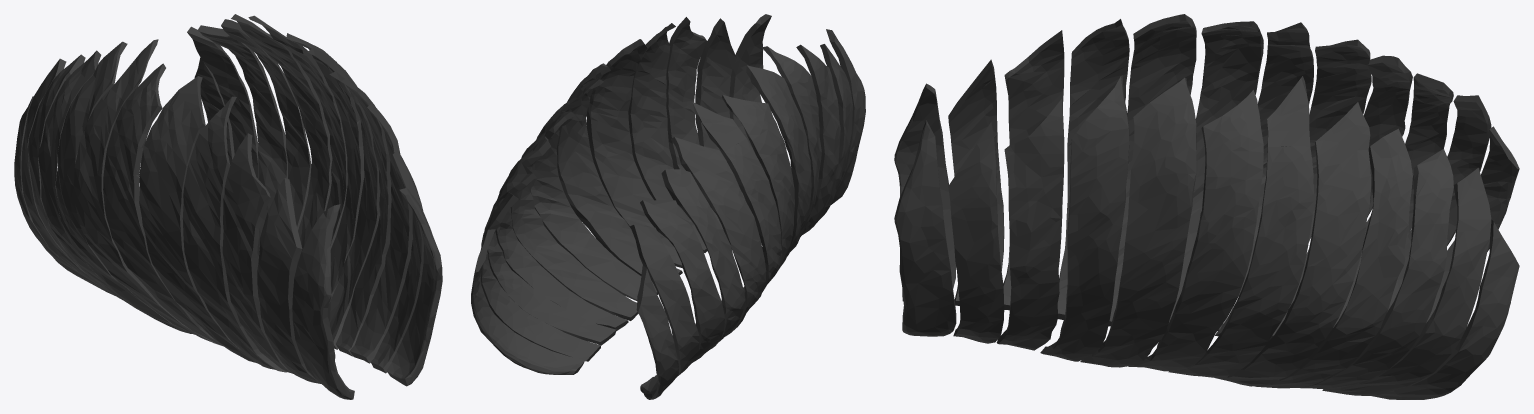
File: m_intercostales_externi.glb
3 views of the same model, side by side, from view 1: azimuth 30°, elevation 25°; view 2: azimuth 150°, elevation 25°; view 3: azimuth 270°, elevation 25° (orthographic). The views are drawn at different scales.
Visible parts, largest first — view 1: m_intercostales_externi; view 2: m_intercostales_externi; view 3: m_intercostales_externi.
Boxes of the visible parts, x1,y1,x2,y2 form: m_intercostales_externi: (14, 14, 442, 399); m_intercostales_externi: (471, 14, 865, 399); m_intercostales_externi: (894, 14, 1519, 399).
Size of the model in its own units: 0.0049 by 0.00527 by 0.00903.
Materials: 1 (1 with a texture image).
